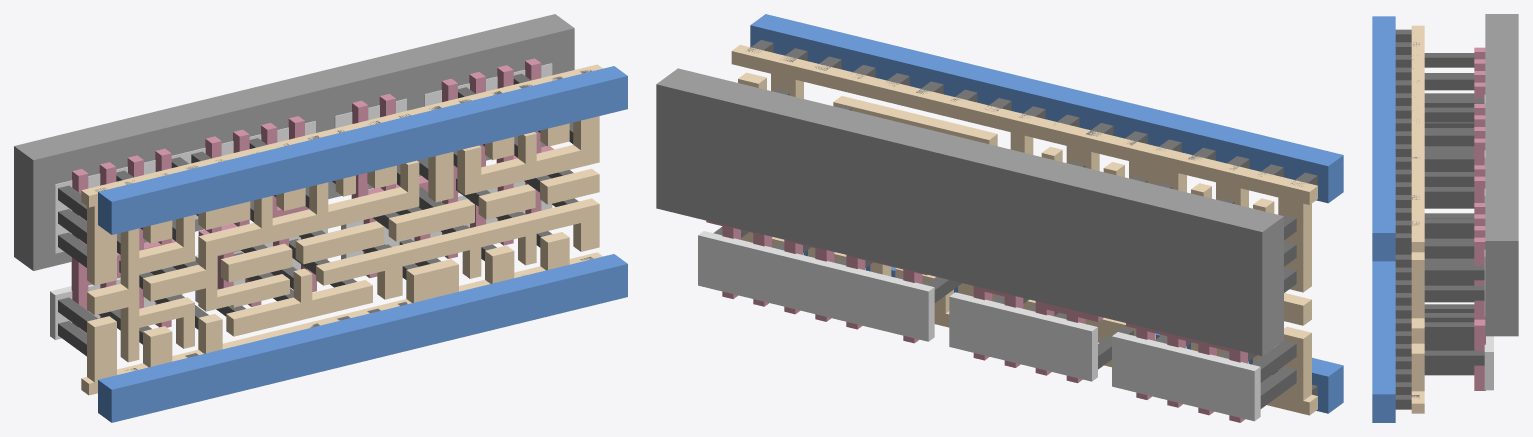
Rendered from sky130_fd_sc_hd__o311a_4.gds.gltf.
The picture shows the model from 3 angles, left to right: view 1: azimuth 30°, elevation 25°; view 2: azimuth 150°, elevation 25°; view 3: azimuth 270°, elevation 25°; orthographic projection. The views are drawn at different scales.
Parts seen in each view (by area): view 1: sky130_fd_sc_hd__o311a_4_li1, sky130_fd_sc_hd__o311a_4_met1, sky130_fd_sc_hd__o311a_4_nwell, sky130_fd_sc_hd__o311a_4_licon, sky130_fd_sc_hd__o311a_4_poly, sky130_fd_sc_hd__o311a_4_diff, sky130_fd_sc_hd__o311a_4_mcon; view 2: sky130_fd_sc_hd__o311a_4_nwell, sky130_fd_sc_hd__o311a_4_diff, sky130_fd_sc_hd__o311a_4_li1, sky130_fd_sc_hd__o311a_4_met1, sky130_fd_sc_hd__o311a_4_poly, sky130_fd_sc_hd__o311a_4_licon, sky130_fd_sc_hd__o311a_4_mcon; view 3: sky130_fd_sc_hd__o311a_4_licon, sky130_fd_sc_hd__o311a_4_nwell, sky130_fd_sc_hd__o311a_4_met1, sky130_fd_sc_hd__o311a_4_mcon, sky130_fd_sc_hd__o311a_4_li1, sky130_fd_sc_hd__o311a_4_poly, sky130_fd_sc_hd__o311a_4_diff.
Boxes of the visible parts, x1,y1,x2,y2 form: sky130_fd_sc_hd__o311a_4_li1: (81,64,602,395); sky130_fd_sc_hd__o311a_4_met1: (98,66,627,422); sky130_fd_sc_hd__o311a_4_nwell: (14,14,574,270); sky130_fd_sc_hd__o311a_4_licon: (58,73,578,356); sky130_fd_sc_hd__o311a_4_poly: (71,58,553,333); sky130_fd_sc_hd__o311a_4_diff: (50,63,552,339); sky130_fd_sc_hd__o311a_4_mcon: (95,70,593,370); sky130_fd_sc_hd__o311a_4_nwell: (656,68,1283,356); sky130_fd_sc_hd__o311a_4_diff: (698,231,1260,421); sky130_fd_sc_hd__o311a_4_li1: (731,44,1317,415); sky130_fd_sc_hd__o311a_4_met1: (750,14,1343,413); sky130_fd_sc_hd__o311a_4_poly: (706,220,1247,422); sky130_fd_sc_hd__o311a_4_licon: (713,90,1296,408); sky130_fd_sc_hd__o311a_4_mcon: (746,40,1317,395); sky130_fd_sc_hd__o311a_4_licon: (1424,53,1484,375); sky130_fd_sc_hd__o311a_4_nwell: (1485,14,1518,336); sky130_fd_sc_hd__o311a_4_met1: (1372,16,1395,422); sky130_fd_sc_hd__o311a_4_mcon: (1395,29,1419,409); sky130_fd_sc_hd__o311a_4_li1: (1411,25,1424,413); sky130_fd_sc_hd__o311a_4_poly: (1474,47,1485,390); sky130_fd_sc_hd__o311a_4_diff: (1484,95,1493,390).
Bounding box in the file's own units: 8.2 × 3.2 × 2.24.
